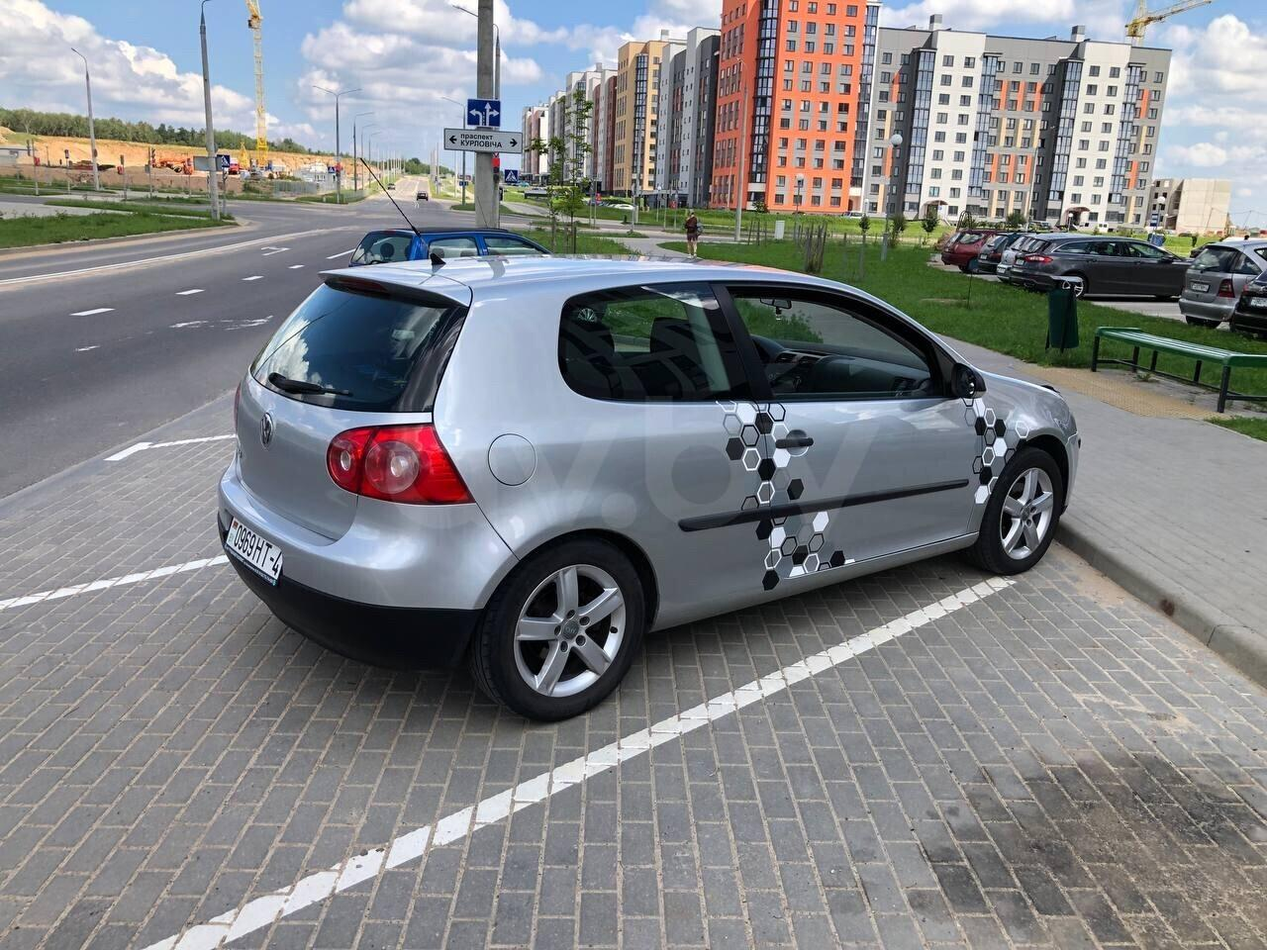Golf_2003-2009: (214, 253, 1082, 722)
